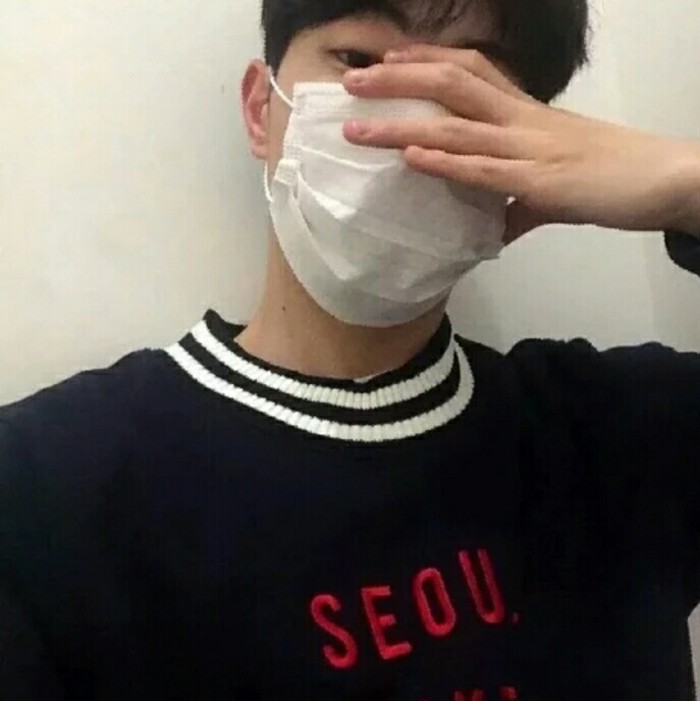face_mask: (273, 1, 506, 317)
